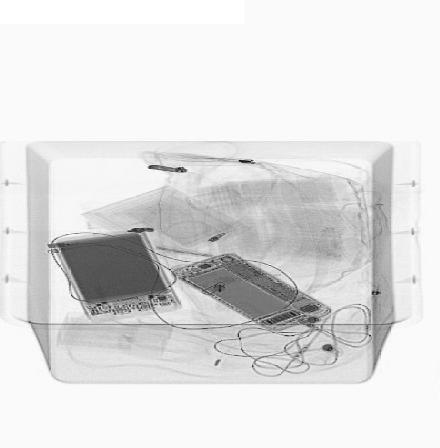Powerbank: (54, 231, 185, 318)
